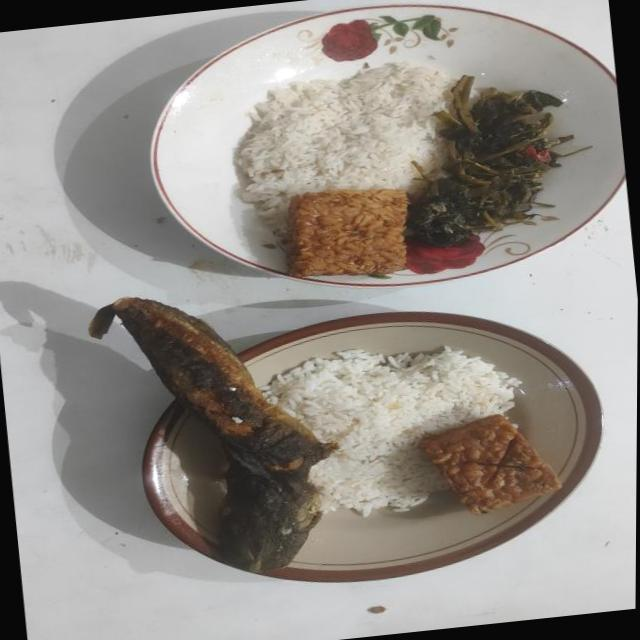nasi_putih: (260, 346, 521, 516), (233, 62, 452, 232)
tempe_goreng: (420, 414, 560, 514), (287, 188, 408, 276)
tumis_kangkung: (406, 75, 574, 248)
